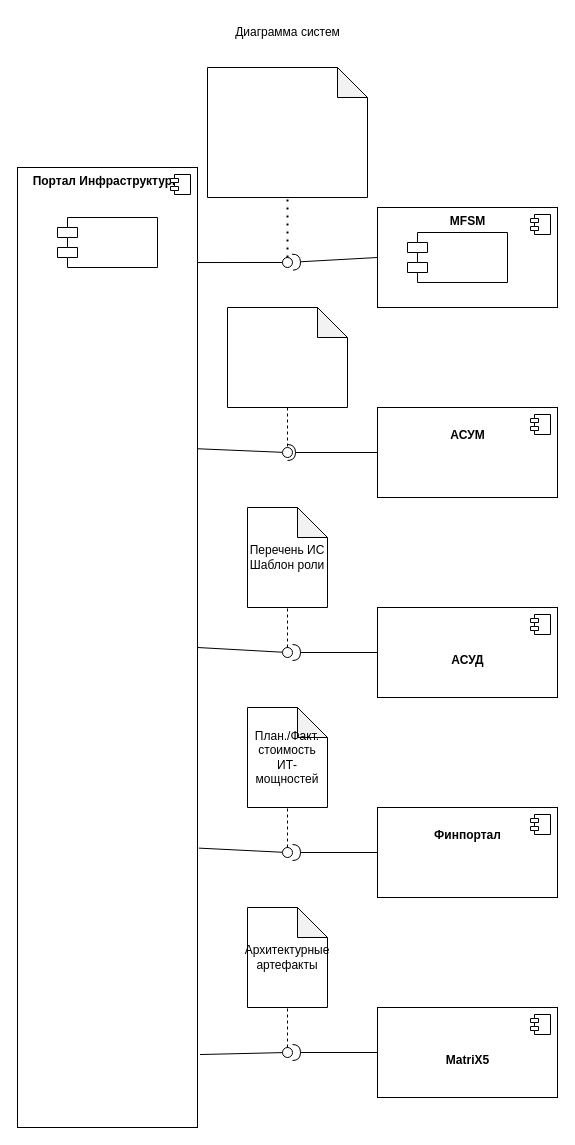
This 575x1145 diagram has some shape labels left out. The centre of each missing label's shape, as x and y in pixels:
"CMDB" goes at point (457, 257).
"Заявка на расчет стоимости Заявка на выделение IT-мощности Карточка КЕ" goes at point (287, 132).
"Личный кабинет" goes at point (107, 242).
"Органический рост Драйверы ув. мощности" goes at point (287, 357).
